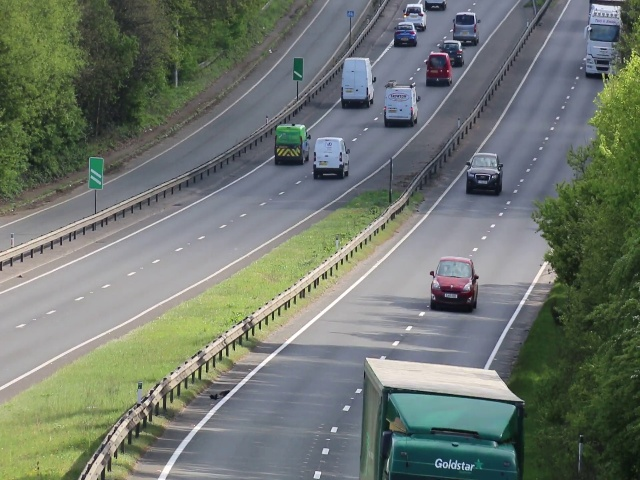car: (431, 258, 478, 312), (582, 3, 614, 74), (338, 56, 378, 108), (272, 118, 311, 167), (463, 152, 503, 197), (311, 133, 348, 179), (382, 82, 418, 126), (451, 11, 479, 49), (400, 1, 430, 32), (390, 21, 420, 49), (426, 53, 451, 86), (441, 42, 462, 66)
